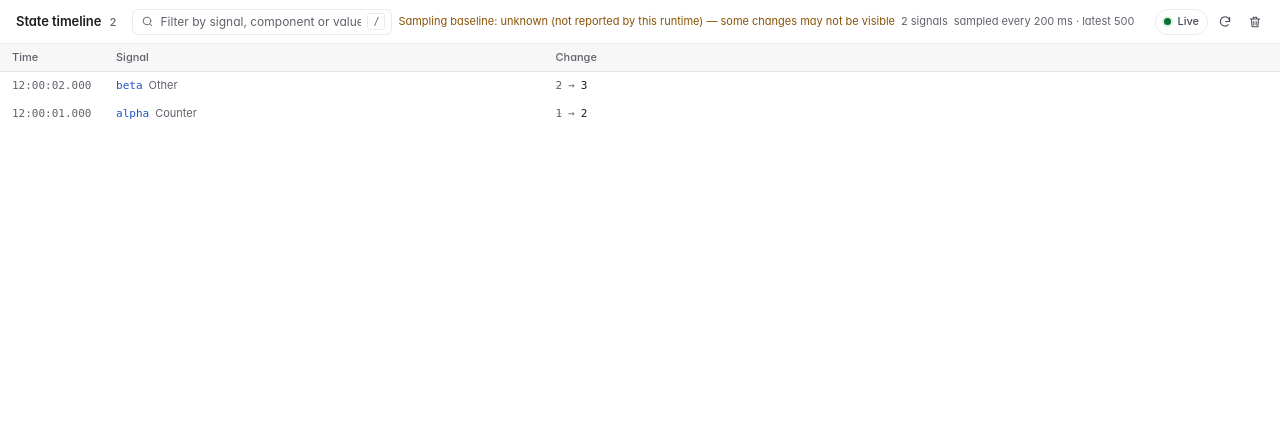
Test: StateTimeline › filters by signal, component or value, with a no-match state
The image size is (1280, 447).
Type "Other" into the search field named "Filter" at (261, 22), box 160,10 -> 361,34
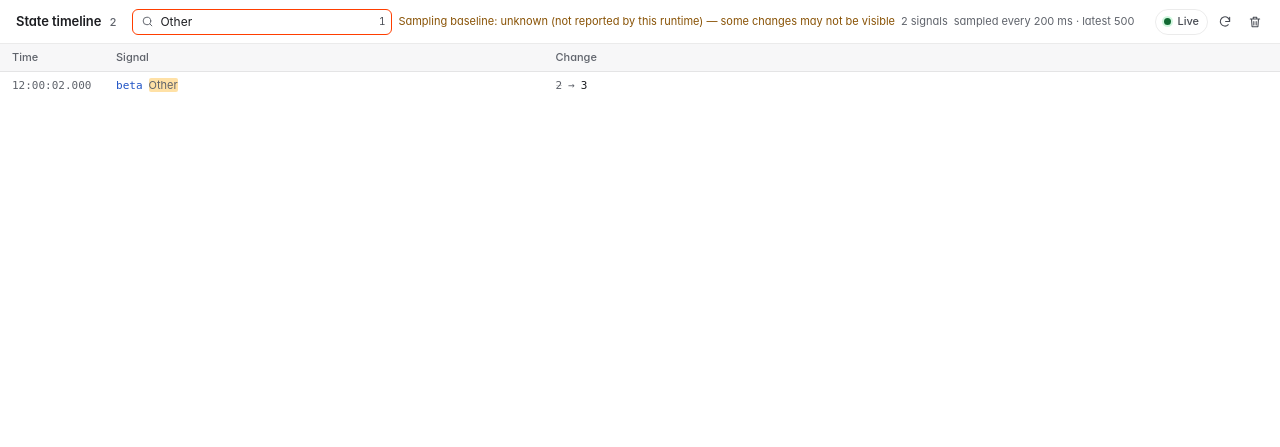
Clear the search field named "Filter" at (267, 22), box 160,10 -> 373,34
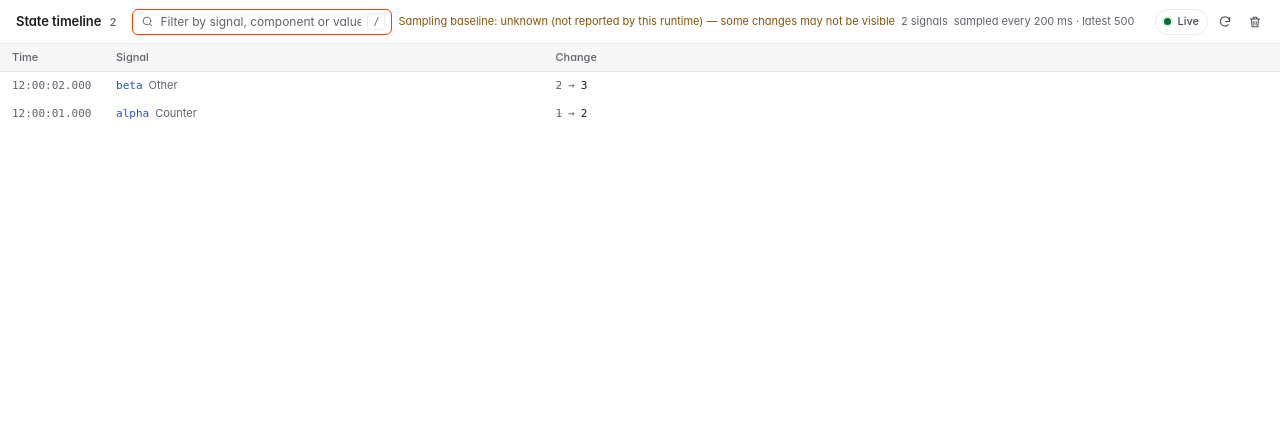
Type "zzz" into the search field named "Filter" at (261, 22), box 160,10 -> 361,34
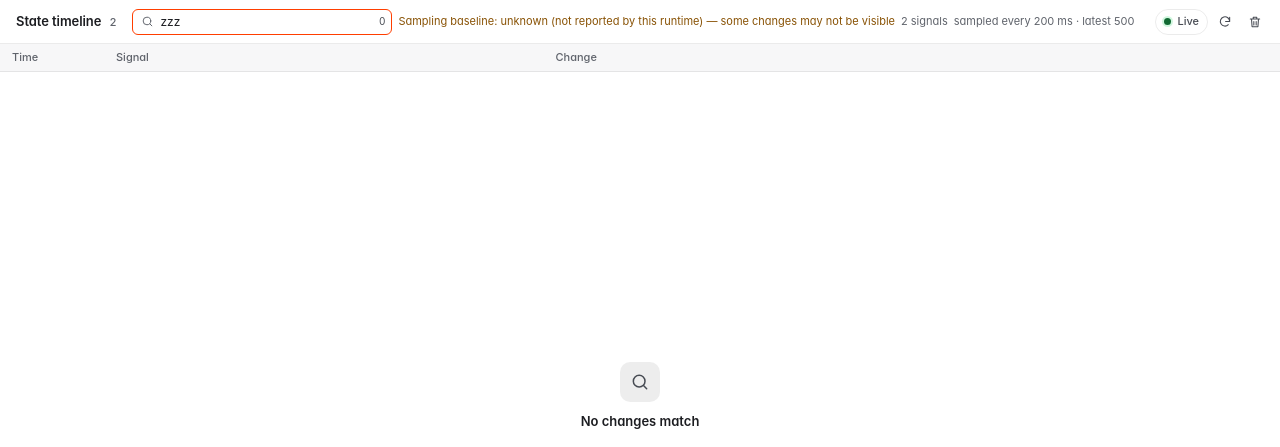
Expected: no options are shown
Expected: the text "No changes match" is shown, 581,412 -> 699,430
